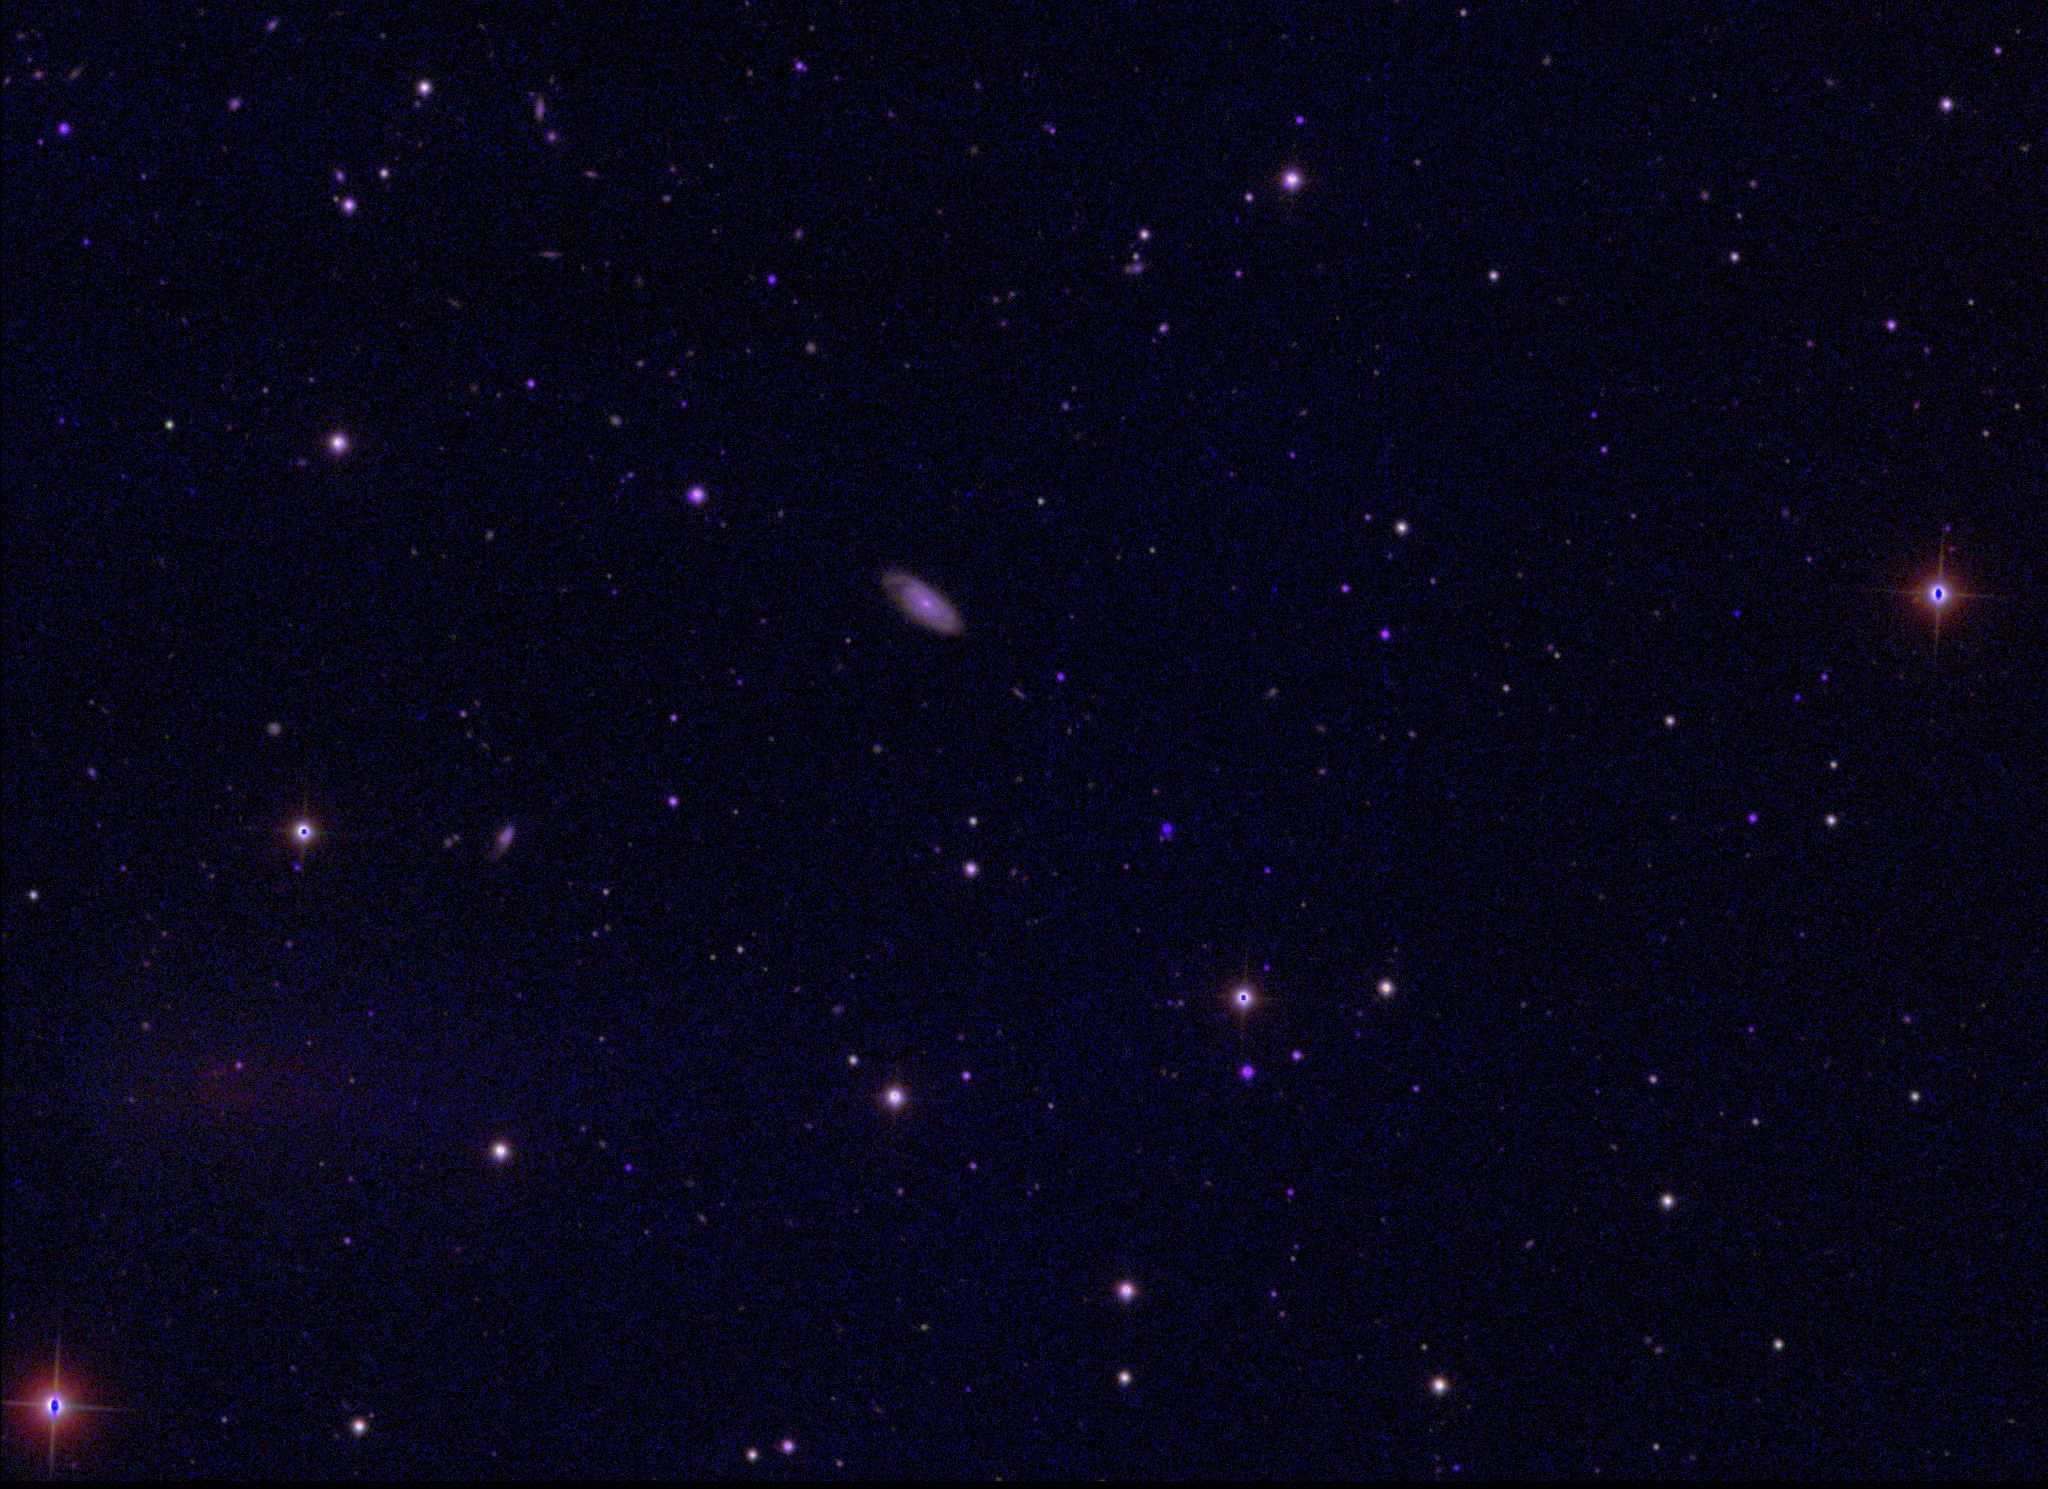L: (1730, 606, 1744, 620)
